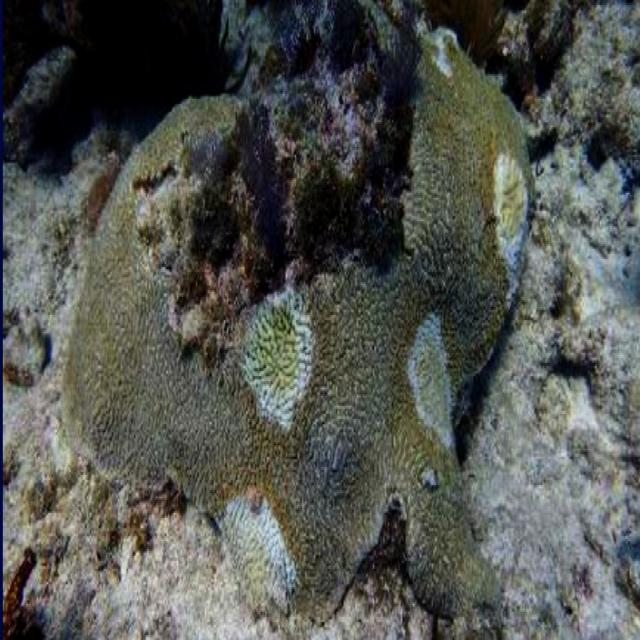Coral: (62, 0, 536, 640)
